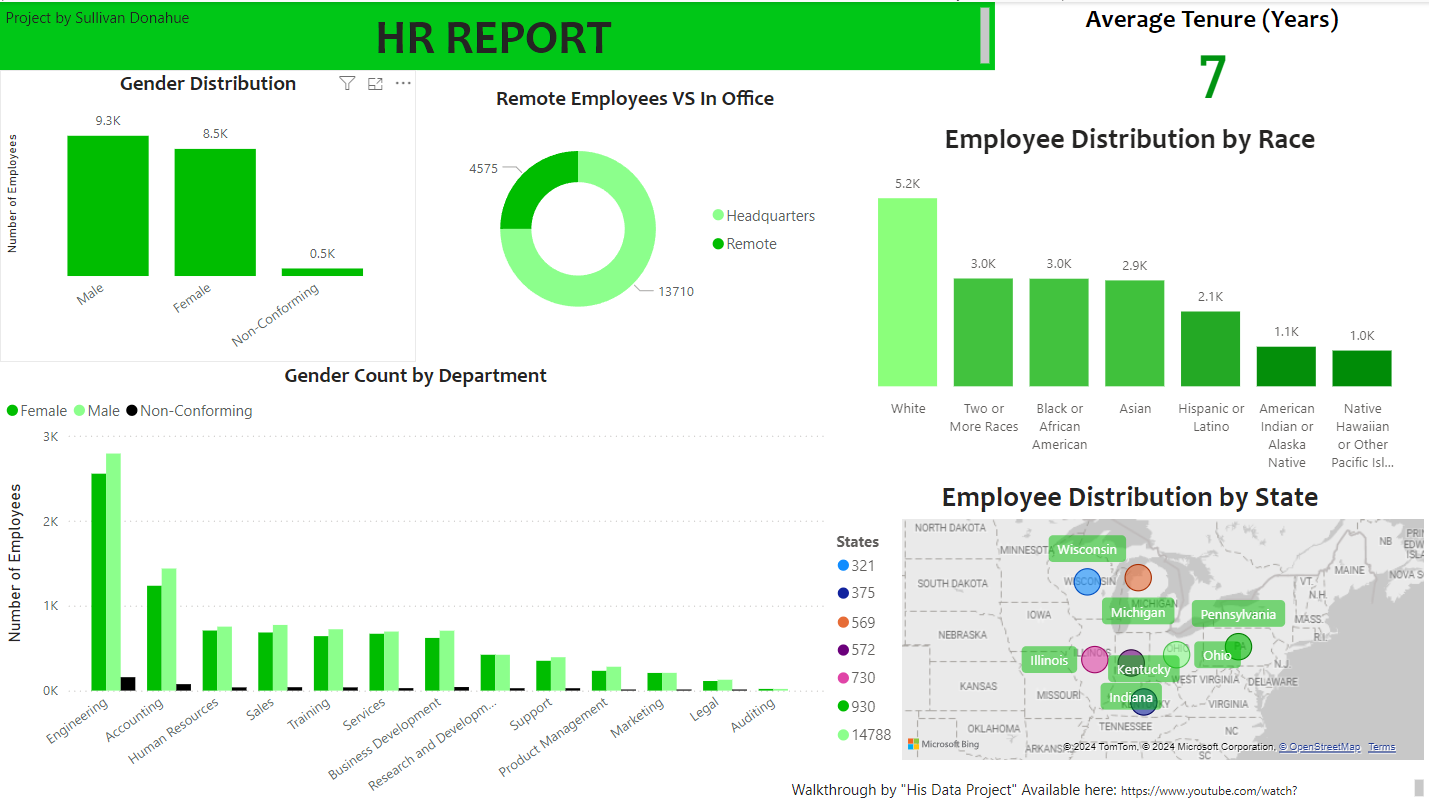

The page's visual inventory and layout, read from the dashboard file:
{"tool":"powerbi","page":{"name":"Page 1","canvas":[1280,720],"ordinal":0},"visuals":[{"type":"textbox","box":[0,0,891.5,60.6],"z":0},{"type":"card","title":"Average Tenure (Years)","fields":{"Values":["Sum(Average Tenure.Column1)"]},"box":[891.5,0,388.9,91.5],"z":1000},{"type":"columnChart","title":"Gender Distribution","fields":{"Category":["Gender.Column1"],"Y":["Sum(Gender.Column2)"]},"box":[0,60.9,372.5,261.5],"z":2000},{"type":"clusteredColumnChart","title":"Gender Count by Department","fields":{"Category":["Gender - Departments.Column1"],"Y":["Sum(Gender - Departments.Column3)"],"Series":["Gender - Departments.Column2"]},"box":[0,322.4,744.2,397.6],"z":3000},{"type":"donutChart","title":"Remote Employees VS In Office","fields":{"Category":["Remote vs Headquarters.Column1"],"Y":["Sum(Remote vs Headquarters.Column2)"]},"box":[393.1,74.3,351,234.6],"z":4000},{"type":"map","title":"Employee Distribution by State","fields":{"Series":["state distribution.Column2"],"Category":["state distribution.Column1"]},"box":[744.2,427.2,535.5,257],"z":5000},{"type":"columnChart","title":"Employee Distribution by Race","fields":{"Y":["Sum(Race Distribution.Column2)"],"Category":["Race Distribution.Column1"]},"box":[744.2,106.6,535.5,320.6],"z":6000},{"type":"textbox","box":[0,0,515.8,60.9],"z":6001},{"type":"textbox","box":[703.9,691.3,575.8,28.7],"z":6002}]}

Visuals, with their boxes in screenshot pixels (x1, y1, x2, y2), scaled from the page's 1280x720 canvas onto the 1429x806 screenshot:
textbox: {"x1": 0, "y1": 0, "x2": 995, "y2": 68}
"Average Tenure (Years)" card: {"x1": 995, "y1": 0, "x2": 1428, "y2": 102}
"Gender Distribution" columnChart: {"x1": 0, "y1": 68, "x2": 416, "y2": 361}
"Gender Count by Department" clusteredColumnChart: {"x1": 0, "y1": 361, "x2": 831, "y2": 805}
"Remote Employees VS In Office" donutChart: {"x1": 439, "y1": 83, "x2": 831, "y2": 346}
"Employee Distribution by State" map: {"x1": 831, "y1": 478, "x2": 1428, "y2": 766}
"Employee Distribution by Race" columnChart: {"x1": 831, "y1": 119, "x2": 1428, "y2": 478}
textbox: {"x1": 0, "y1": 0, "x2": 576, "y2": 68}
textbox: {"x1": 786, "y1": 774, "x2": 1428, "y2": 805}
